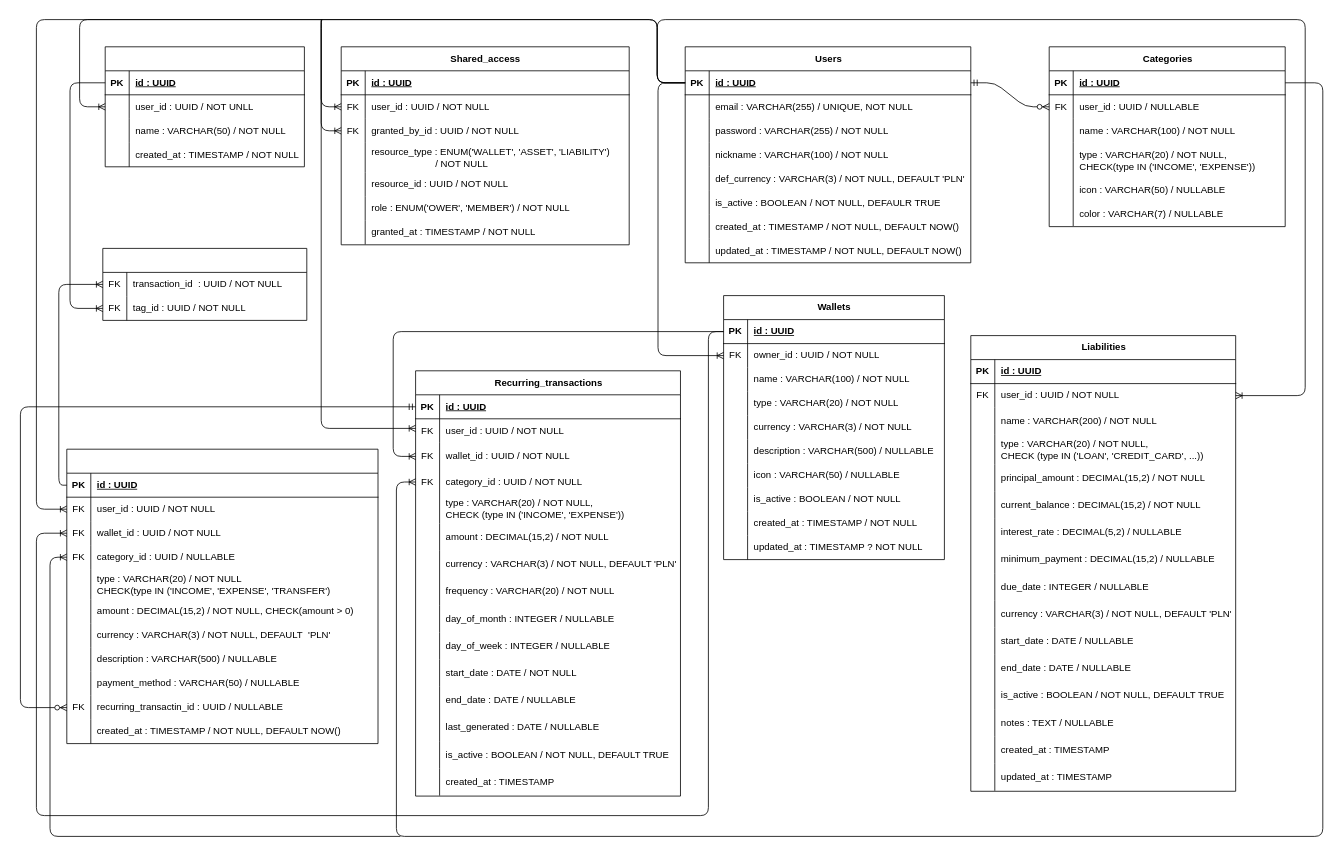
Image size: 1343x857. Some labels were removed from this diagram. Each missing label, with the box of its shape:
Tags: (104, 46, 304, 167)
Transaction_tags: (102, 248, 307, 320)
Transactions: (66, 448, 378, 744)
